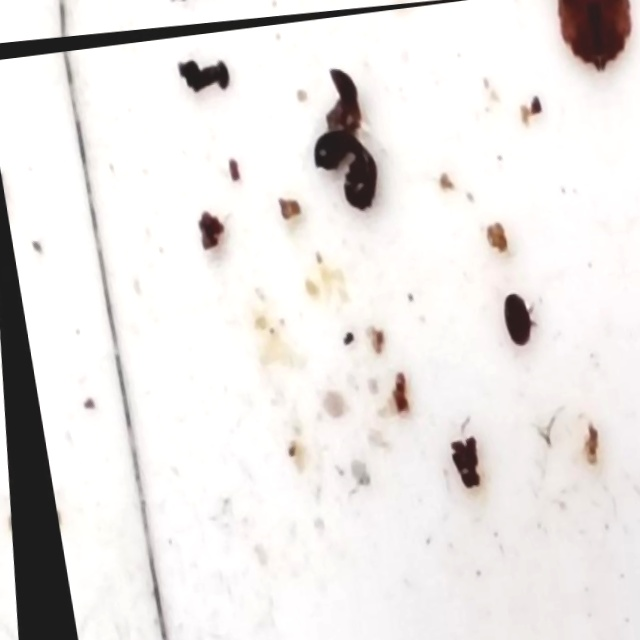varroa: (338, 152, 382, 220), (301, 128, 357, 174), (493, 290, 532, 351)
